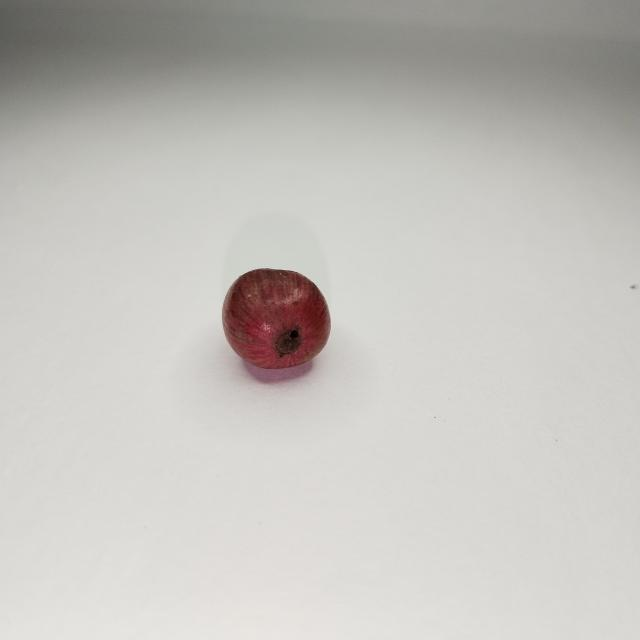Infectado: (222, 271, 332, 373)
